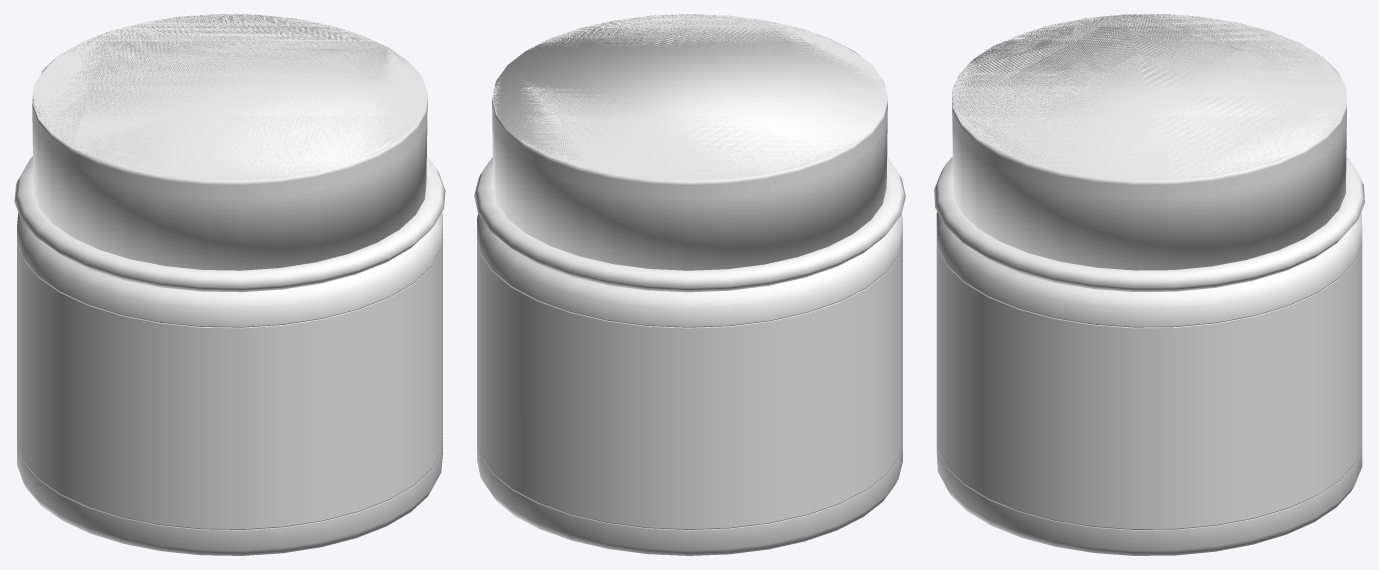
File: cicapairHover2.glb
The picture shows the model from 3 angles, left to right: view 1: azimuth 30°, elevation 25°; view 2: azimuth 150°, elevation 25°; view 3: azimuth 270°, elevation 25°; orthographic projection.
Parts seen in each view (by area): view 1: 03_LID; view 2: 03_LID; view 3: 03_LID.
Part boxes in pixels (bbox=[...]): 03_LID: bbox=[14, 14, 445, 555]; 03_LID: bbox=[474, 14, 905, 555]; 03_LID: bbox=[934, 14, 1364, 555].
Size of the model in its own units: 20.09 by 19.39 by 20.09.
5 materials, 1 textured.
